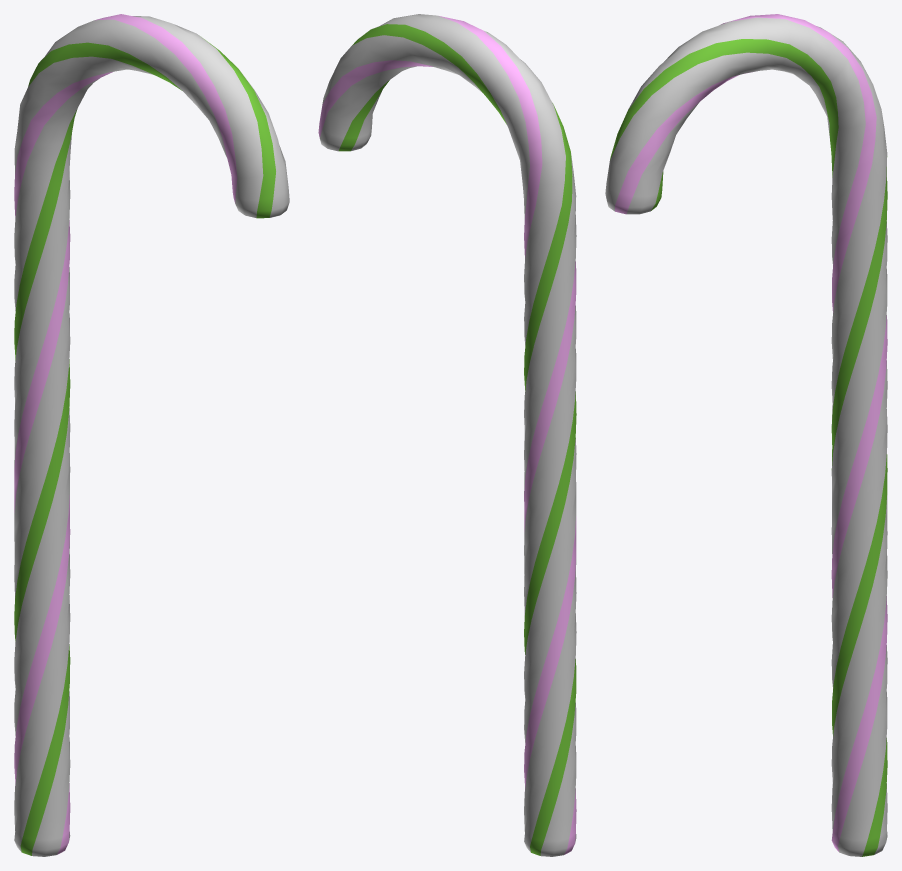
File: Polkagris_11.glb
The picture shows the model from 3 angles, left to right: view 1: azimuth 30°, elevation 25°; view 2: azimuth 210°, elevation 25°; view 3: azimuth 270°, elevation 25°; orthographic projection. The views are drawn at different scales.
Parts seen in each view (by area): view 1: Polkagrisar.011; view 2: Polkagrisar.011; view 3: Polkagrisar.011.
Part boxes in pixels (x1,y1,x2,y2): Polkagrisar.011: [14, 14, 289, 856]; Polkagrisar.011: [318, 14, 576, 856]; Polkagrisar.011: [605, 14, 887, 856].
Bounding box in the file's own units: 0.4693 × 2.49 × 0.7438.
